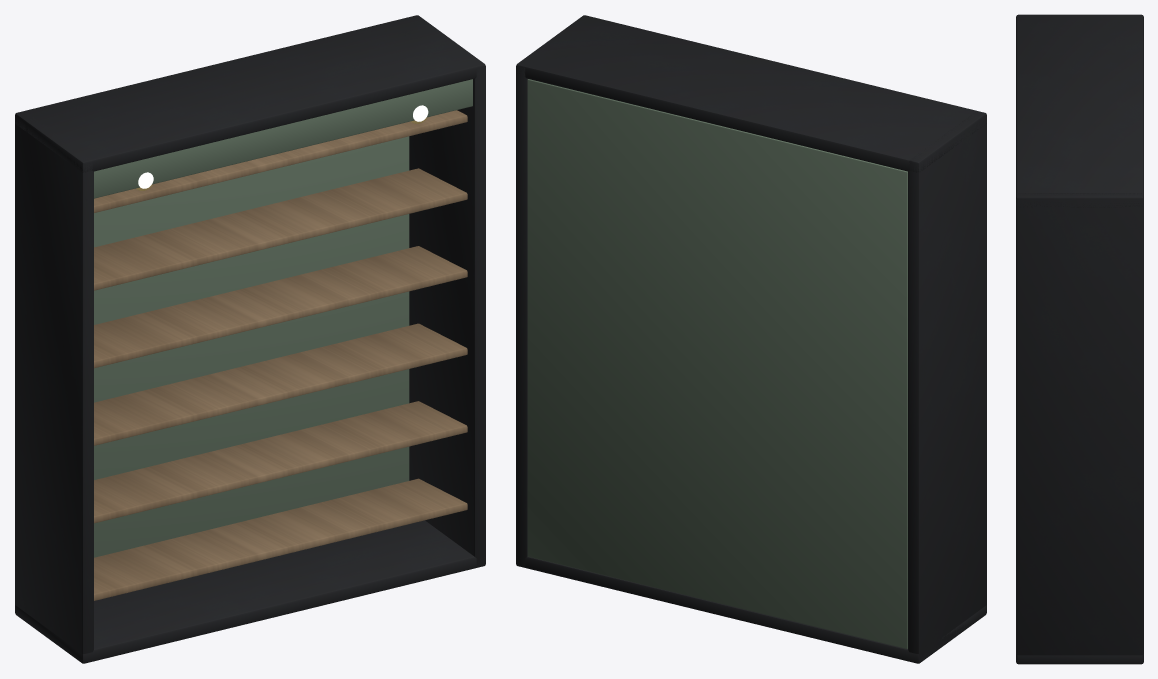
File: pf_display_shoe_display_t3.glb
3 views of the same model, side by side, from view 1: azimuth 30°, elevation 25°; view 2: azimuth 150°, elevation 25°; view 3: azimuth 270°, elevation 25° (orthographic). The views are drawn at different scales.
Parts seen in each view (by area): view 1: Case_Back, Case_Left, Case_Top, Case_Right, Case_Base, Angled_Shoe_Shelf_01, Angled_Shoe_Shelf_02, Angled_Shoe_Shelf_05, Angled_Shoe_Shelf_03, Angled_Shoe_Shelf_04, Header_Back, Angled_Shoe_Shelf_06; view 2: Case_Back, Case_Left, Case_Top, Case_Right, Case_Base; view 3: Case_Right, Case_Top, Case_Base.
Boxes of the visible parts, x1,y1,x2,y2 form: Case_Back: (94,136,409,557); Case_Left: (15,111,93,663); Case_Top: (15,15,485,172); Case_Right: (409,65,485,567); Case_Base: (15,520,485,663); Angled_Shoe_Shelf_01: (94,478,467,600); Angled_Shoe_Shelf_02: (94,401,467,523); Angled_Shoe_Shelf_05: (94,168,467,290); Angled_Shoe_Shelf_03: (94,323,467,445); Angled_Shoe_Shelf_04: (94,246,467,368); Header_Back: (94,79,472,198); Angled_Shoe_Shelf_06: (94,110,467,212); Case_Back: (527,79,907,648); Case_Left: (908,111,986,663); Case_Top: (516,15,986,172); Case_Right: (516,65,527,567); Case_Base: (516,556,986,663); Case_Right: (1016,193,1143,664); Case_Top: (1016,14,1143,207); Case_Base: (1016,654,1143,663).
Bounding box in the file's own units: 1.7 × 2.02 × 0.5.
6 materials, 2 textured.
